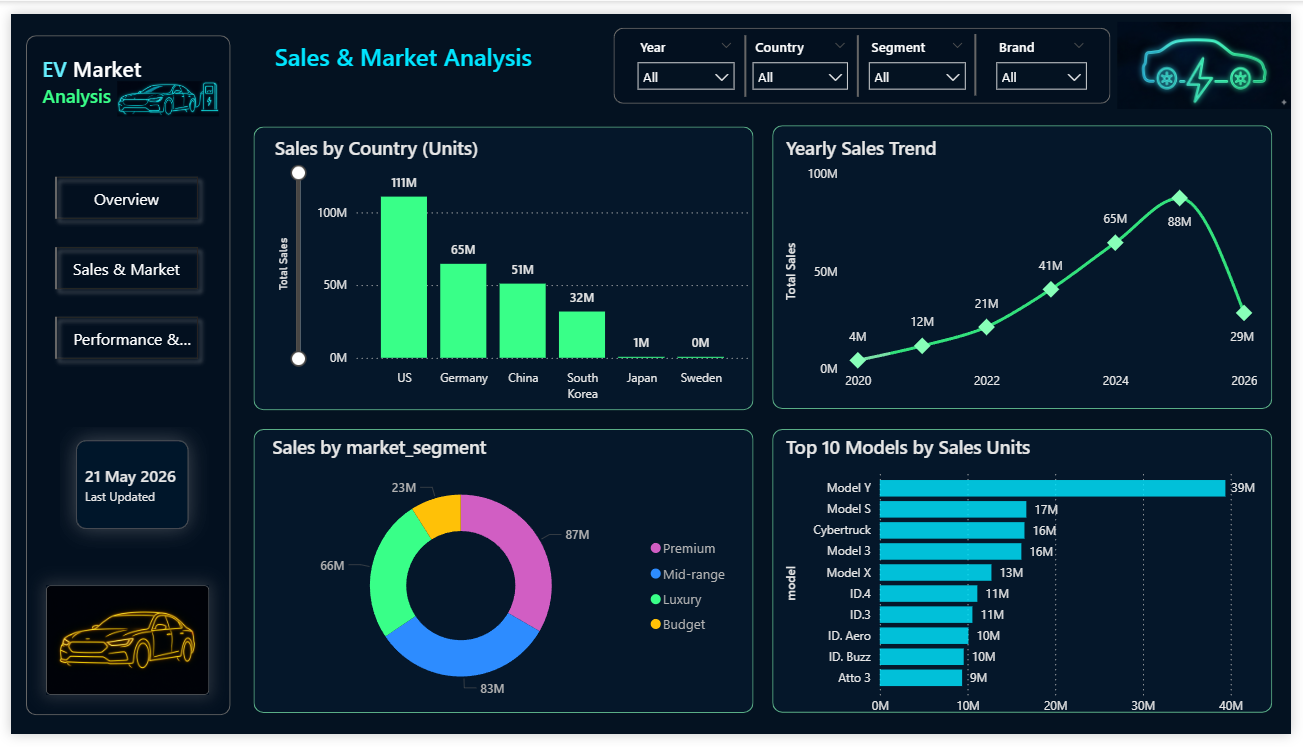

This screenshot's page, from the dashboard's own definition file:
{"tool":"powerbi","page":{"name":"Sales & Market","canvas":[1280,720],"ordinal":1},"visuals":[{"type":"shape","box":[15.6,21.1,204.4,680],"z":0},{"type":"shape","box":[602,13.3,497.1,76],"z":1000},{"type":"slicer","fields":{"Values":["ev_market_2026 (2).year"]},"box":[616.5,19.3,117,62.7],"z":2000},{"type":"slicer","fields":{"Values":["ev_market_2026 (2).market_segment"]},"box":[846.9,19.3,117,62.7],"z":3000},{"type":"slicer","fields":{"Values":["ev_market_2026 (2).country_of_origin"]},"box":[731.1,19.3,115.8,62.7],"z":4000},{"type":"slicer","fields":{"Values":["ev_market_2026 (2).brand"]},"box":[974.8,19.3,111,62.7],"z":5000},{"type":"shape","box":[698.5,21.7,71.2,61.5],"z":6000},{"type":"shape","box":[810.7,21.7,71.2,61.5],"z":7000},{"type":"shape","box":[929,20.5,71.2,61.5],"z":8000},{"type":"image","box":[1106.3,6,173.7,90.5],"z":9000},{"type":"pageNavigator","box":[35,153.2,161.7,200],"z":10000},{"type":"textbox","box":[258.2,21.7,368,76],"z":11000},{"type":"image","box":[35,570.6,162.9,109.8],"z":12000},{"type":"textbox","box":[26.7,35.6,111.1,94.4],"z":13000},{"type":"image","box":[106.2,60.3,101.3,49.5],"z":14000},{"type":"shape","box":[242.5,112.5,500,283.8],"z":15000},{"type":"shape","box":[242.5,415,500,284],"z":16000},{"type":"shape","box":[761.2,111.2,500,283.8],"z":17000},{"type":"shape","box":[761.2,415,500,283.8],"z":18000},{"type":"clusteredColumnChart","title":"  Sales by Country (Units)","fields":{"Category":["ev_market_2026 (2).country_of_origin"],"Y":["ev_market_2026 (2).Total Sales"]},"box":[258.8,121.2,483.8,273.8],"z":19000},{"type":"lineChart","title":"Yearly Sales Trend","fields":{"Category":["ev_market_2026 (2).year"],"Y":["ev_market_2026 (2).Total Sales"]},"box":[770,121.2,481.2,263.8],"z":20000},{"type":"donutChart","title":"Sales by market_segment","fields":{"Category":["ev_market_2026 (2).market_segment"],"Y":["ev_market_2026 (2).Total Sales"]},"box":[256.2,420,472.5,278.8],"z":21000},{"type":"clusteredBarChart","title":"Top 10 Models by Sales Units","fields":{"Y":["ev_market_2026 (2).Total Sales"],"Category":["ev_market_2026 (2).model"]},"box":[770,420,491.2,290],"z":22000},{"type":"shape","box":[45,406.2,152.5,128.8],"z":23000},{"type":"cardVisual","fields":{"Data":["ev_market_2026 (2).Last Updated"]},"box":[45,420,152.5,101.2],"z":24000}]}

Visuals, with their boxes in screenshot pixels (x1, y1, x2, y2), scaled from the page's 1280x720 canvas onto the 1303x747 screenshot:
shape: 16:22:224:727
shape: 613:14:1119:93
slicer - ev_market_2026 (2).year: 628:20:747:85
slicer - ev_market_2026 (2).market_segment: 862:20:981:85
slicer - ev_market_2026 (2).country_of_origin: 744:20:862:85
slicer - ev_market_2026 (2).brand: 992:20:1105:85
shape: 711:23:784:86
shape: 825:23:898:86
shape: 946:21:1018:85
image: 1126:6:1302:100
pageNavigator: 36:159:200:366
textbox: 263:23:637:101
image: 36:592:201:706
textbox: 27:37:140:135
image: 108:63:211:114
shape: 247:117:756:411
shape: 247:431:756:725
shape: 775:115:1284:410
shape: 775:431:1284:725
"  Sales by Country (Units)" clusteredColumnChart: 263:126:756:410
"Yearly Sales Trend" lineChart: 784:126:1274:399
"Sales by market_segment" donutChart: 261:436:742:725
"Top 10 Models by Sales Units" clusteredBarChart: 784:436:1284:737
shape: 46:421:201:555
cardVisual - ev_market_2026 (2).Last Updated: 46:436:201:541
